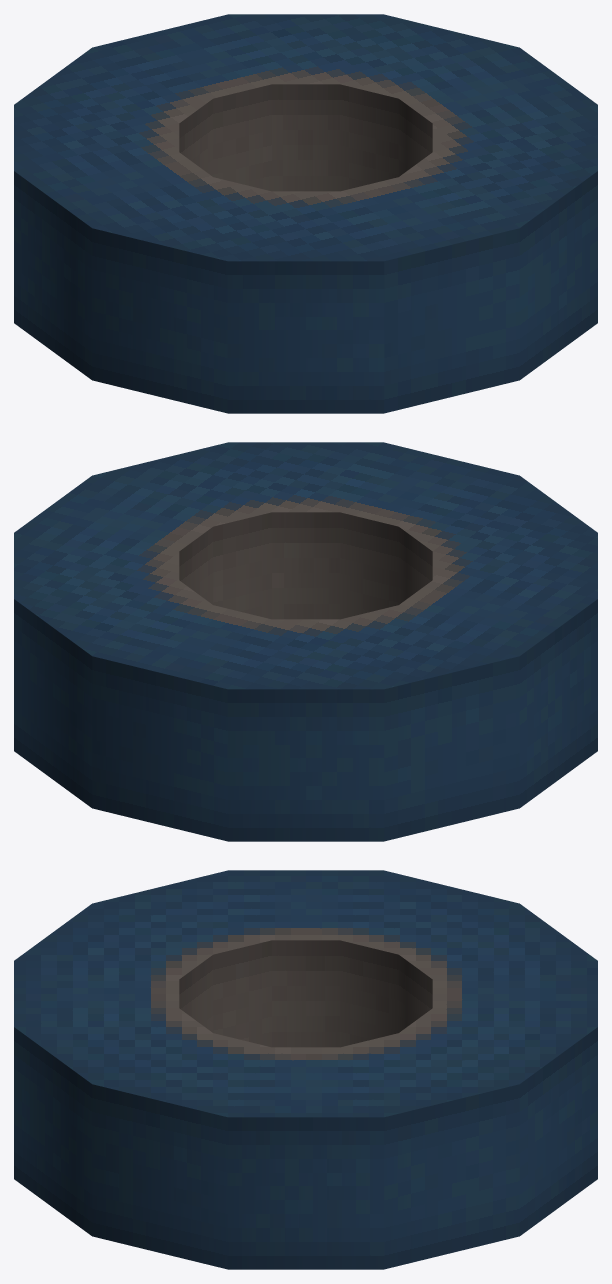
Rendered from electrical_tape_etx_1.glb.
The picture shows the model from 3 angles, top to bottom: view 1: azimuth 30°, elevation 25°; view 2: azimuth 150°, elevation 25°; view 3: azimuth 270°, elevation 25°; orthographic projection.
Visible parts, largest first — view 1: electrical_tape_etx_1; view 2: electrical_tape_etx_1; view 3: electrical_tape_etx_1.
Part boxes in pixels (box(x1,y1,x2,y2)): electrical_tape_etx_1: box(14, 14, 597, 413); electrical_tape_etx_1: box(14, 442, 597, 841); electrical_tape_etx_1: box(14, 870, 597, 1269).
Bounding box in the file's own units: 0.1043 × 0.03 × 0.1043.
Materials: 1 (1 with a texture image).
